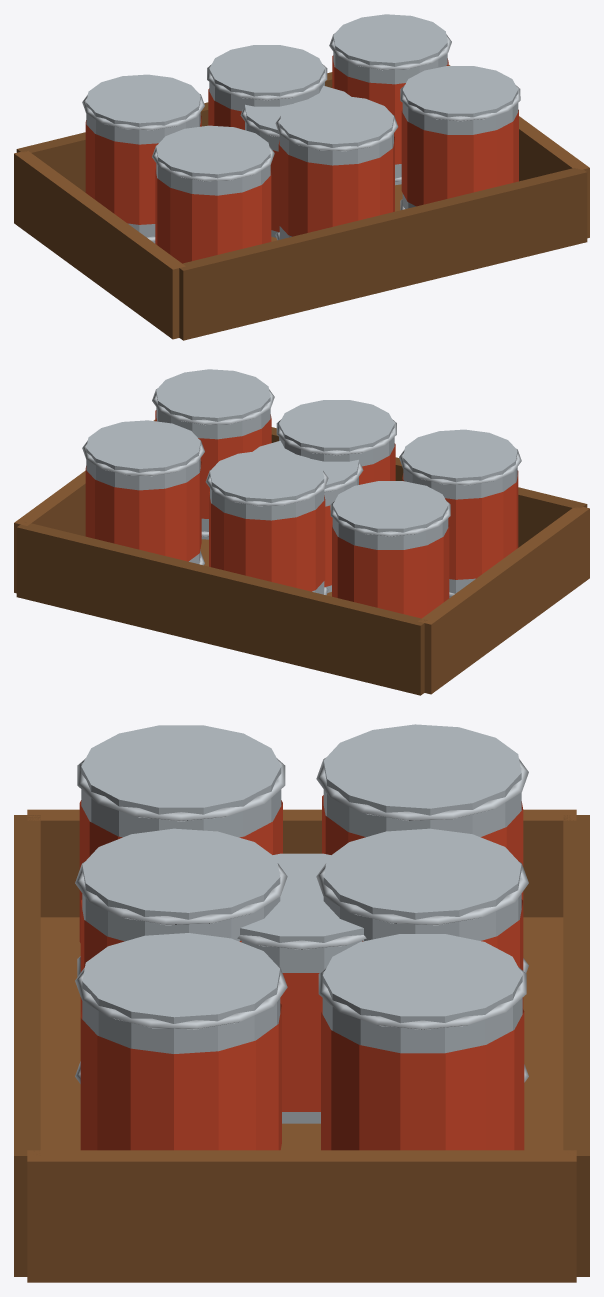
Rendered from Proc_Canned.fbx.
3 views of the same model, one above another, from view 1: azimuth 30°, elevation 25°; view 2: azimuth 150°, elevation 25°; view 3: azimuth 270°, elevation 25° (orthographic). The views are drawn at different scales.
Parts seen in each view (by area): view 1: Proc_Canned__Stack, Proc_Canned; view 2: Proc_Canned__Stack, Proc_Canned; view 3: Proc_Canned__Stack, Proc_Canned.
Part boxes in pixels (x1=…): Proc_Canned__Stack: x1=14, y1=14, x2=589, y2=340; Proc_Canned: x1=240, y1=85, x2=350, y2=237; Proc_Canned__Stack: x1=14, y1=369, x2=589, y2=695; Proc_Canned: x1=253, y1=440, x2=363, y2=592; Proc_Canned__Stack: x1=14, y1=724, x2=589, y2=1282; Proc_Canned: x1=237, y1=853, x2=366, y2=1123.
Bounding box in the file's own units: 0.25 × 0.078 × 0.1728.
